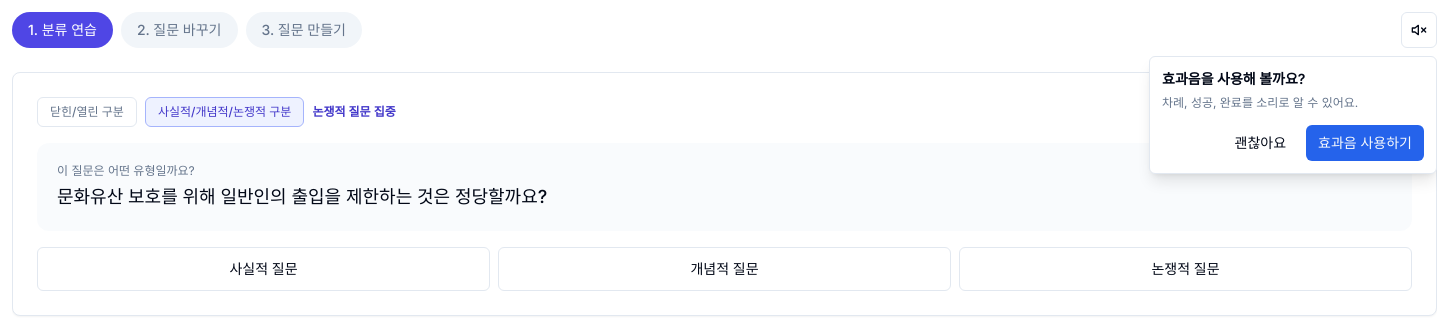
Scenario: 연습 질문 전달 › 추천 선택으로 들어오면 해당 유형 문항만 출제한다
Expected: the text "문화유산 보호를 위해 일반인의 출입을 제한하는 것은 정당할까요?" is shown, [57,186,547,207]
Expected: the button "논쟁적 질문" is shown, [959,247,1412,291]
Click the button "닫힌/열린 구분" at (87, 112), box [37,97,137,127]
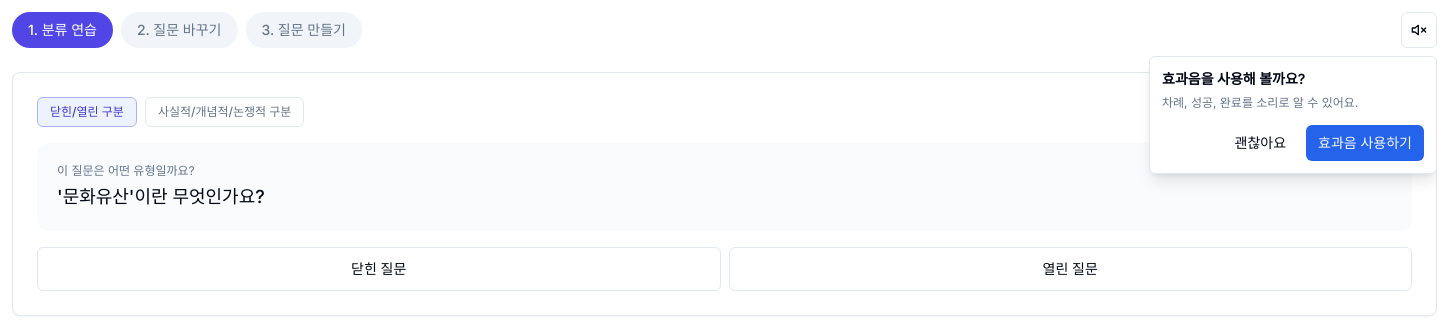
Now the text "논쟁적 질문 집중" is gone
